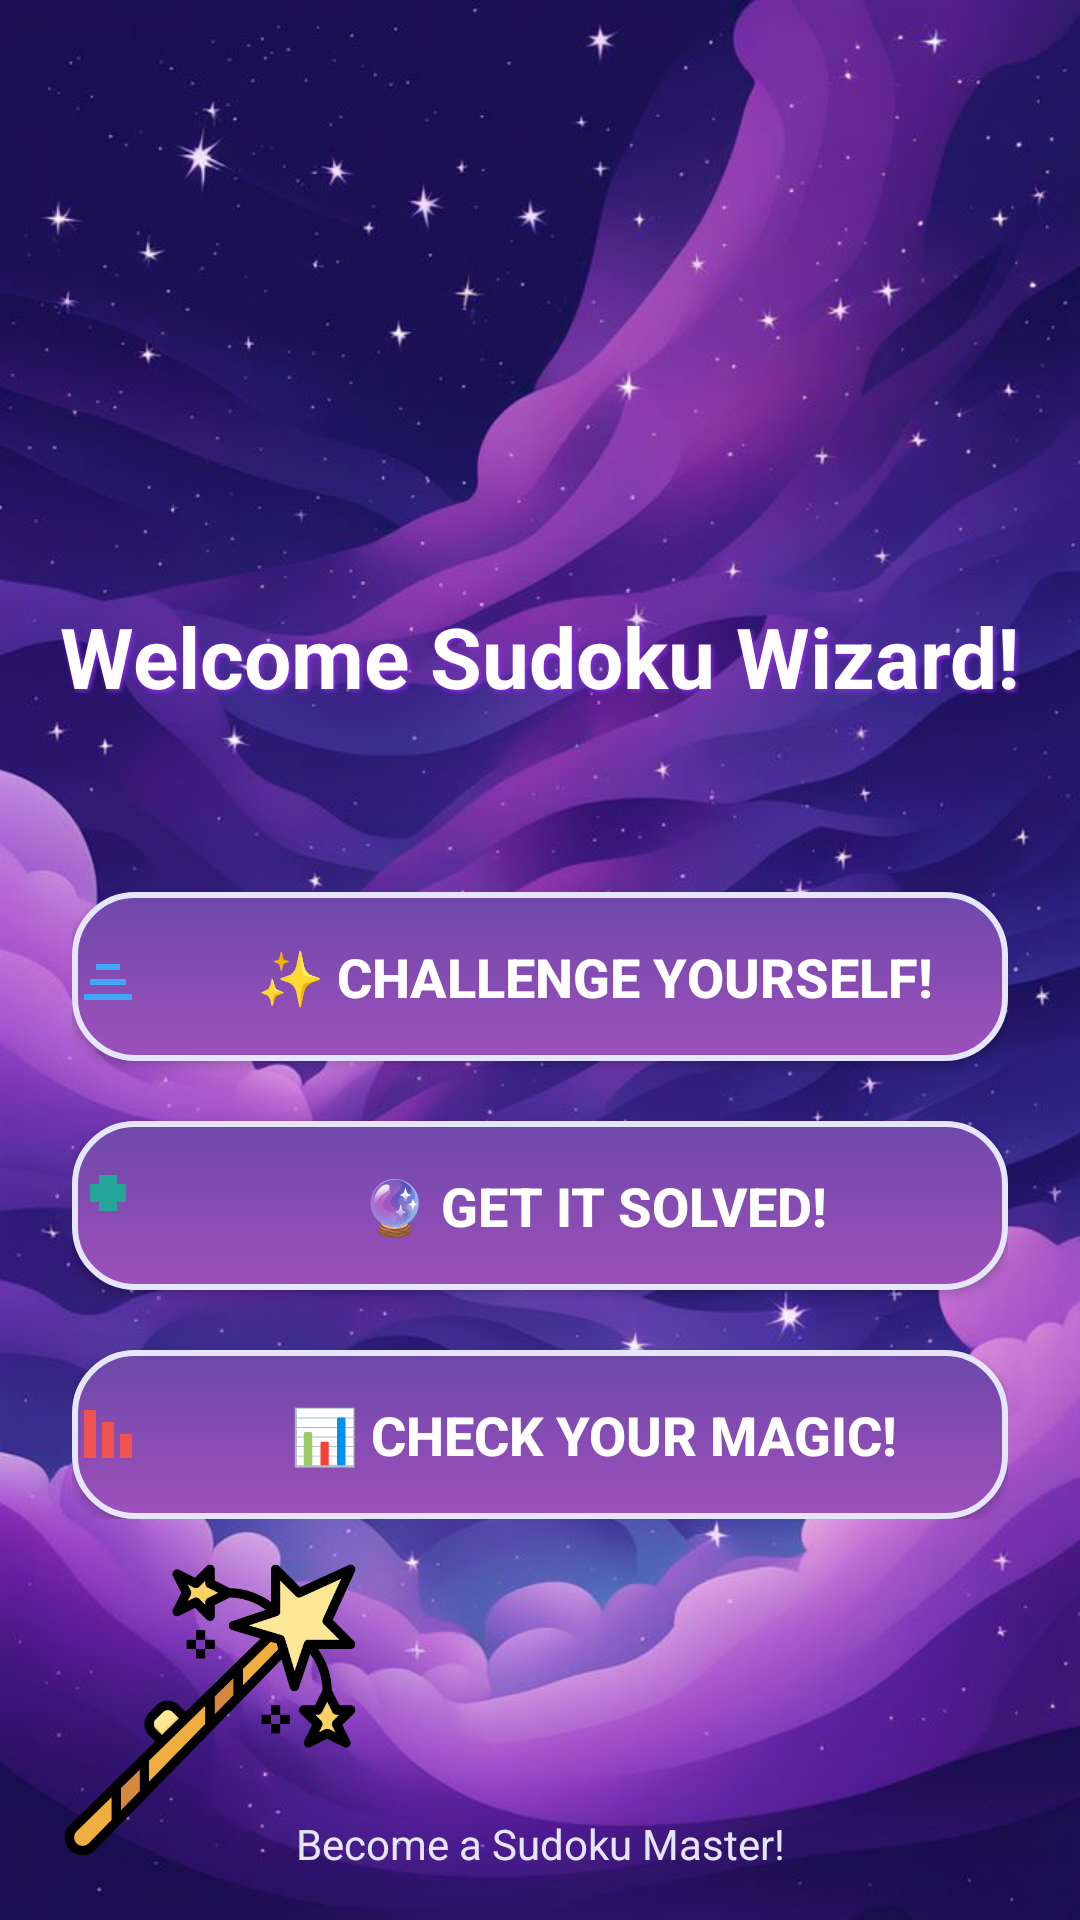

Point at icon controls on the screen. Image size 1080px×1920px, points as (x=x, y=y).
magicwand: (x=210, y=1710)
